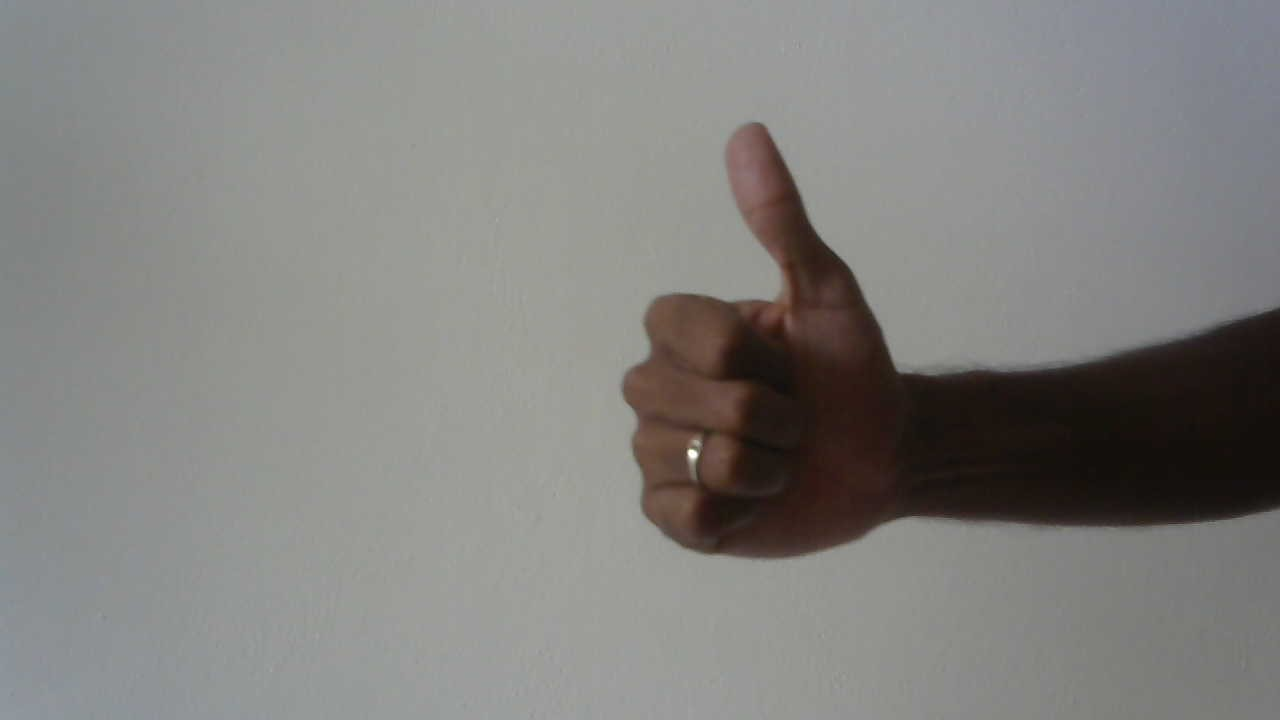thumbsup: (604, 109, 927, 572)
